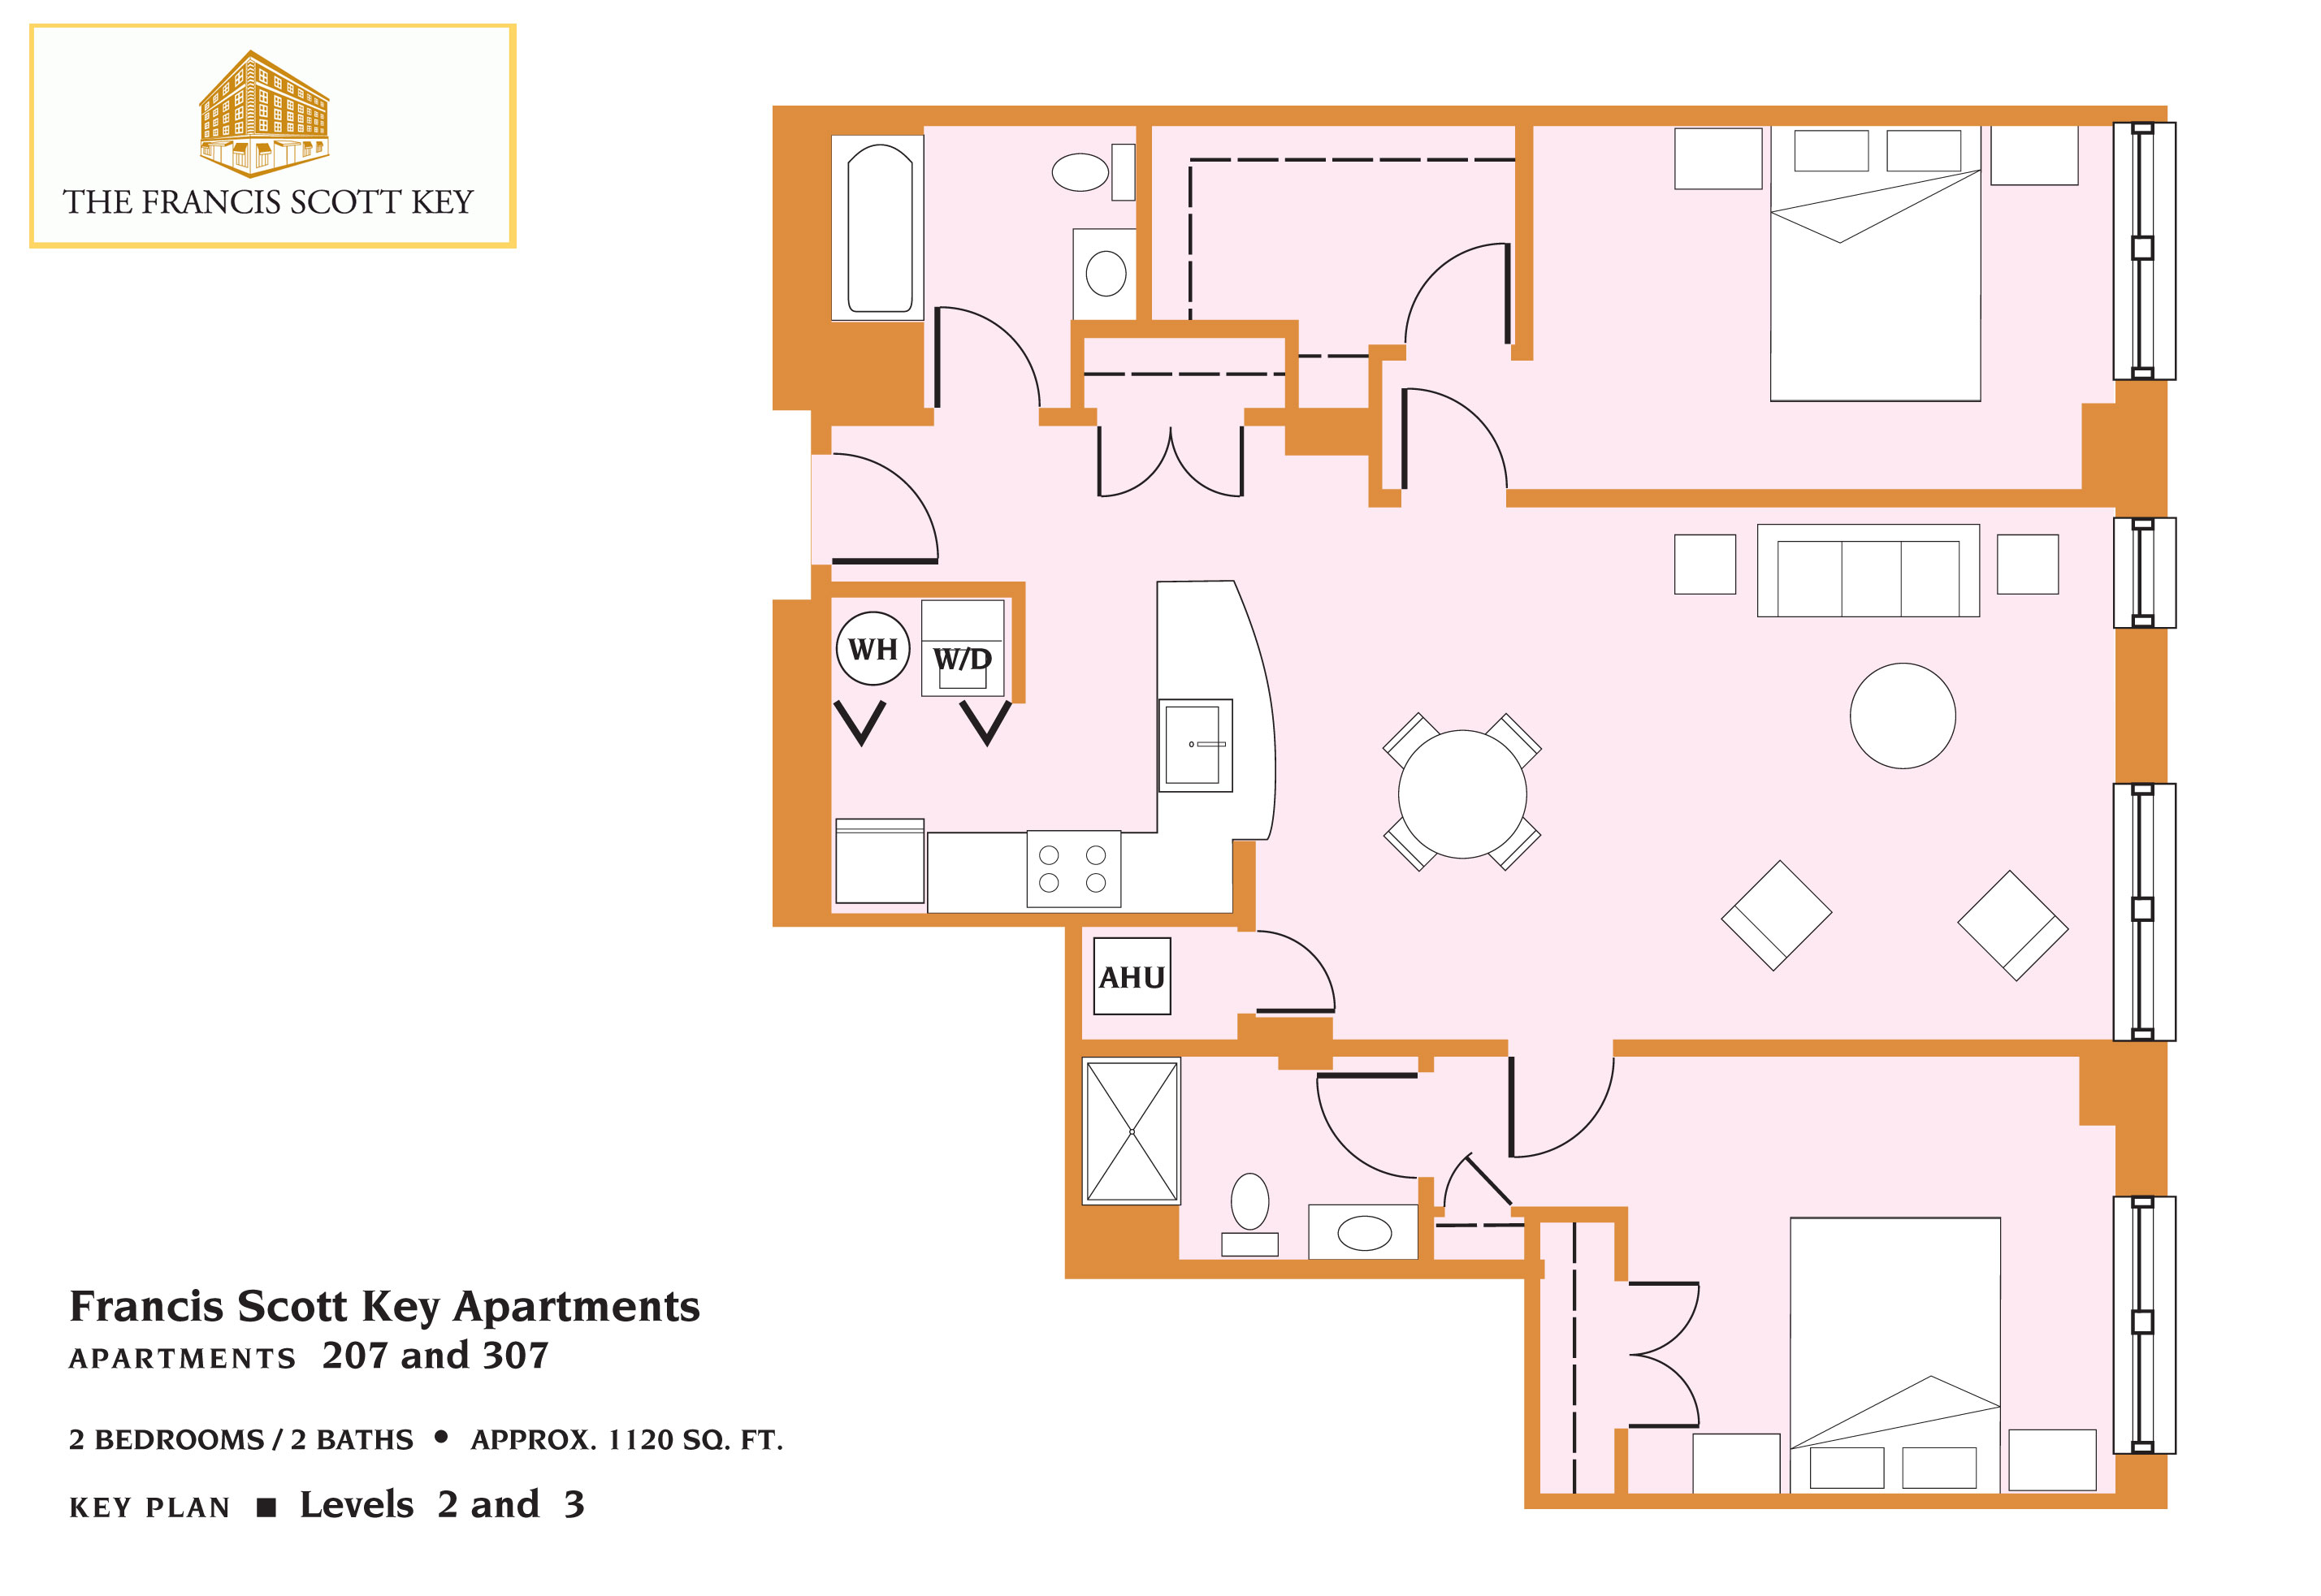door: (836, 448, 949, 570), (928, 296, 1046, 407), (1395, 379, 1511, 487), (1092, 429, 1250, 504), (1628, 1277, 1704, 1432), (1310, 1070, 1413, 1180), (1402, 235, 1511, 330), (1503, 1067, 1614, 1160), (1259, 917, 1363, 1012), (832, 693, 889, 753), (952, 698, 1014, 751), (1441, 1157, 1506, 1206)
